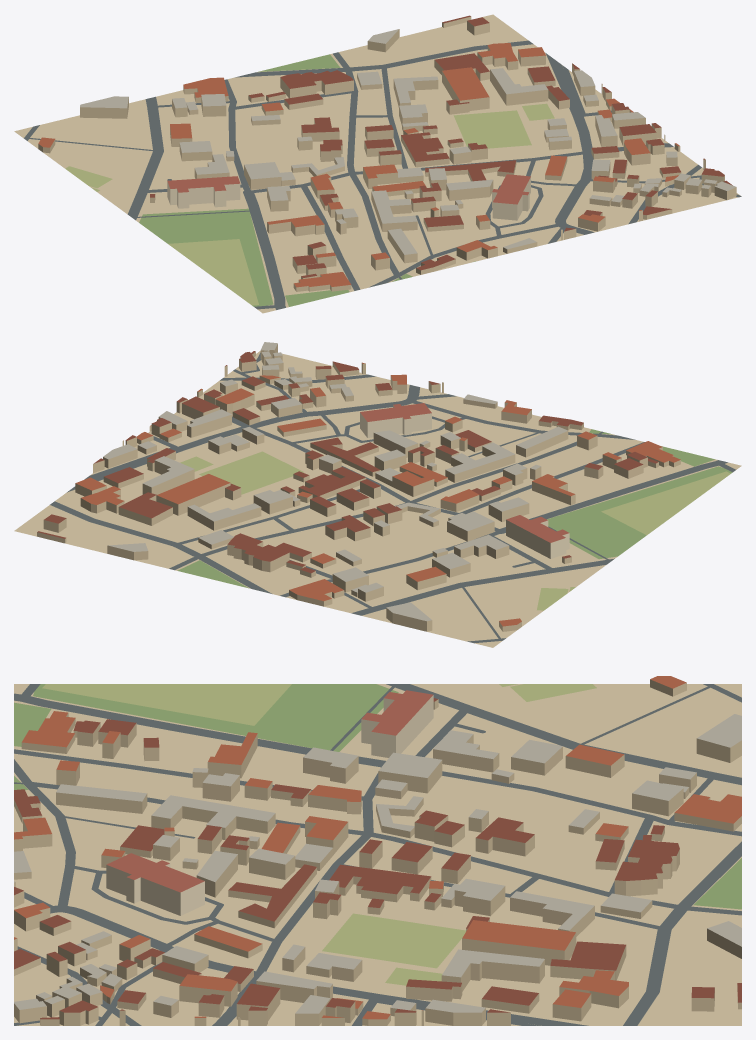
The model's file is Fort_Kochi_OSM.glb.
3 views of the same model, one above another, from view 1: azimuth 30°, elevation 25°; view 2: azimuth 150°, elevation 25°; view 3: azimuth 270°, elevation 25° (orthographic). The views are drawn at different scales.
Parts seen in each view (by area): view 1: Ground, Walls, Streets, Pale Roof, Tile Roof, Clay Roof, Playing Fields, Park, St Francis Church Walls, Santa Cruz Cathedral Basilica Roof, St Francis Church Roof, Santa Cruz Cathedral Basilica Walls; view 2: Ground, Walls, Streets, Pale Roof, Tile Roof, Clay Roof, Playing Fields, Park, St Francis Church Walls, Santa Cruz Cathedral Basilica Walls, Santa Cruz Cathedral Basilica Roof, St Francis Church Roof; view 3: Ground, Walls, Streets, Pale Roof, Tile Roof, Clay Roof, Playing Fields, Park, Santa Cruz Cathedral Basilica Walls, St Francis Church Walls, Santa Cruz Cathedral Basilica Roof, St Francis Church Roof.
Part boxes in pixels (x1=…): Ground: x1=14, y1=14, x2=740, y2=313; Walls: x1=38, y1=16, x2=736, y2=291; Streets: x1=24, y1=40, x2=741, y2=309; Pale Roof: x1=80, y1=29, x2=735, y2=254; Tile Roof: x1=150, y1=15, x2=732, y2=277; Clay Roof: x1=38, y1=43, x2=679, y2=287; Playing Fields: x1=65, y1=103, x2=554, y2=305; Park: x1=139, y1=54, x2=475, y2=306; St Francis Church Walls: x1=167, y1=181, x2=240, y2=208; Santa Cruz Cathedral Basilica Roof: x1=492, y1=174, x2=530, y2=204; St Francis Church Roof: x1=167, y1=176, x2=240, y2=192; Santa Cruz Cathedral Basilica Walls: x1=492, y1=177, x2=530, y2=220; Ground: x1=14, y1=351, x2=741, y2=647; Walls: x1=37, y1=344, x2=680, y2=631; Streets: x1=50, y1=352, x2=735, y2=643; Pale Roof: x1=103, y1=342, x2=567, y2=621; Tile Roof: x1=37, y1=351, x2=658, y2=573; Clay Roof: x1=75, y1=362, x2=680, y2=626; Playing Fields: x1=180, y1=451, x2=730, y2=610; Park: x1=177, y1=429, x2=732, y2=588; St Francis Church Walls: x1=506, y1=520, x2=569, y2=558; Santa Cruz Cathedral Basilica Walls: x1=360, y1=405, x2=431, y2=437; Santa Cruz Cathedral Basilica Roof: x1=360, y1=403, x2=431, y2=421; St Francis Church Roof: x1=506, y1=515, x2=568, y2=542; Ground: x1=14, y1=684, x2=741, y2=1025; Walls: x1=14, y1=679, x2=741, y2=1025; Streets: x1=14, y1=684, x2=741, y2=1025; Pale Roof: x1=14, y1=714, x2=741, y2=1017; Tile Roof: x1=14, y1=698, x2=741, y2=1019; Clay Roof: x1=14, y1=676, x2=741, y2=1019; Playing Fields: x1=42, y1=684, x2=596, y2=985; Park: x1=14, y1=684, x2=741, y2=909; Santa Cruz Cathedral Basilica Walls: x1=106, y1=863, x2=204, y2=915; St Francis Church Walls: x1=361, y1=695, x2=433, y2=757; Santa Cruz Cathedral Basilica Roof: x1=106, y1=853, x2=204, y2=892; St Francis Church Roof: x1=361, y1=690, x2=433, y2=735.
Bounding box in the file's own units: 406 × 13 × 365.
